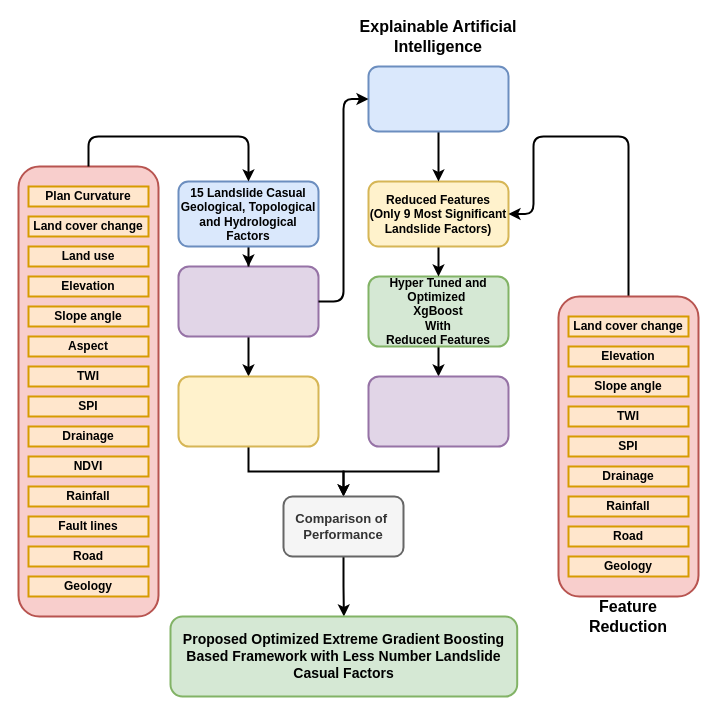
Image size: 716x714. Some labels were removed from this diagram. The shapes that lost their labels are listed below. From the top down, each one's centre as x and y in pixels, then its label:
pixel 438 98: TreeSHAP Analysis of XgBoost
pixel 248 301: Hyper Tuned and Optimized XgBoost With All Features
pixel 248 411: Performance Evaluation Initial Model
pixel 438 411: Performance Evaluation of Final Proposed Model
